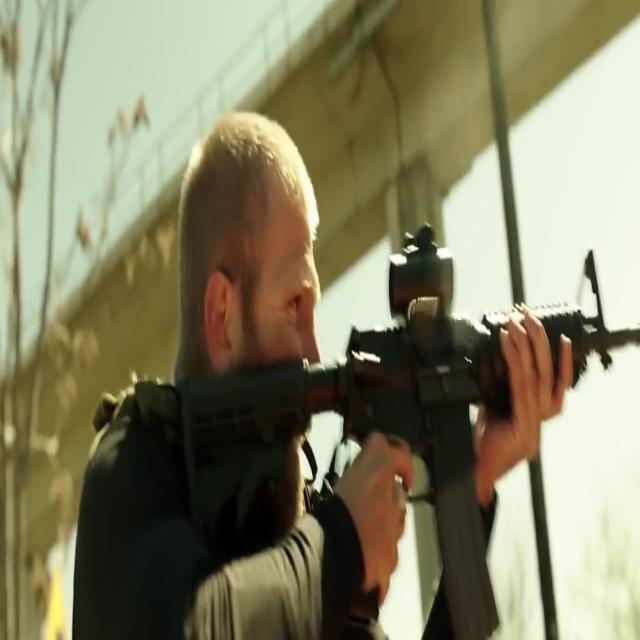Weapon: (146, 286, 623, 550)
